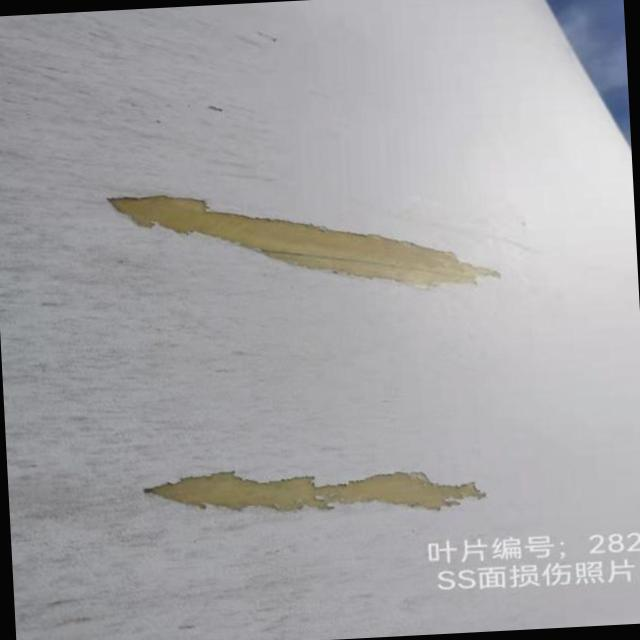surface_peeling: (105, 172, 502, 308), (135, 444, 496, 528)
